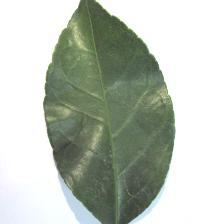healthy: (45, 1, 177, 224)
